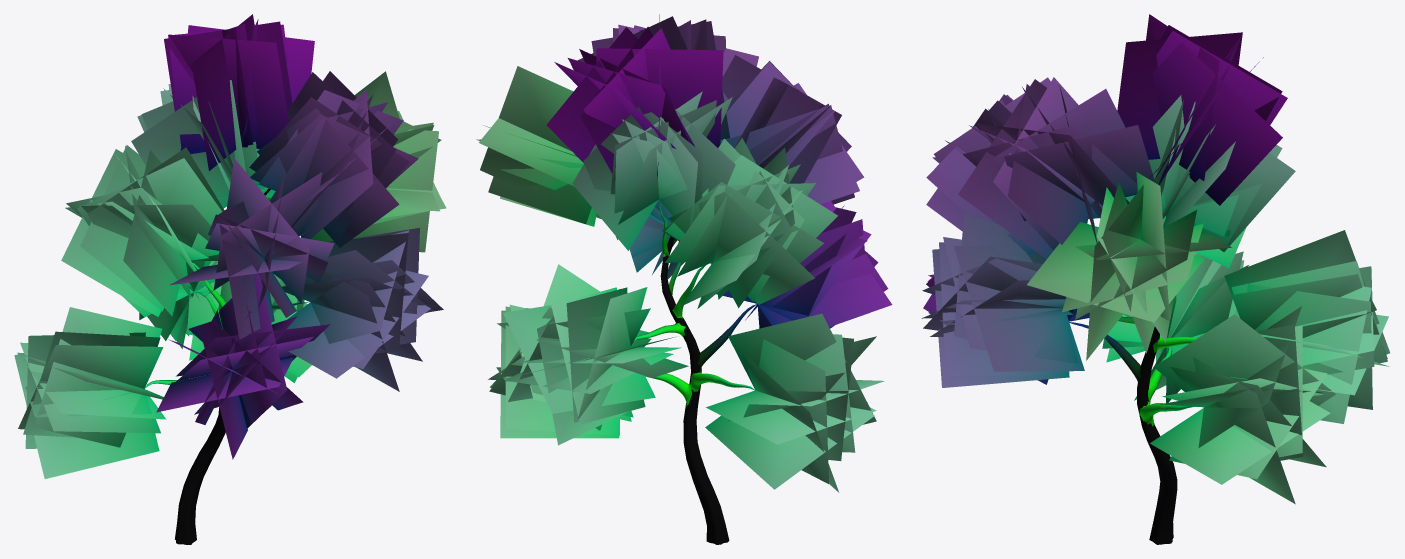
The model's file is M_P6_Tree_3.fbx.
3 renders of one model, left to right at view 1: azimuth 30°, elevation 25°; view 2: azimuth 150°, elevation 25°; view 3: azimuth 270°, elevation 25°, orthographic. The views are drawn at different scales.
Visible parts, largest first — view 1: Tree_3; view 2: Tree_3; view 3: Tree_3.
Boxes of the visible parts, x1,y1,x2,y2 form: Tree_3: (14,14,446,544); Tree_3: (476,14,892,544); Tree_3: (921,14,1389,544).
Size of the model in its own units: 574 by 699 by 547.
